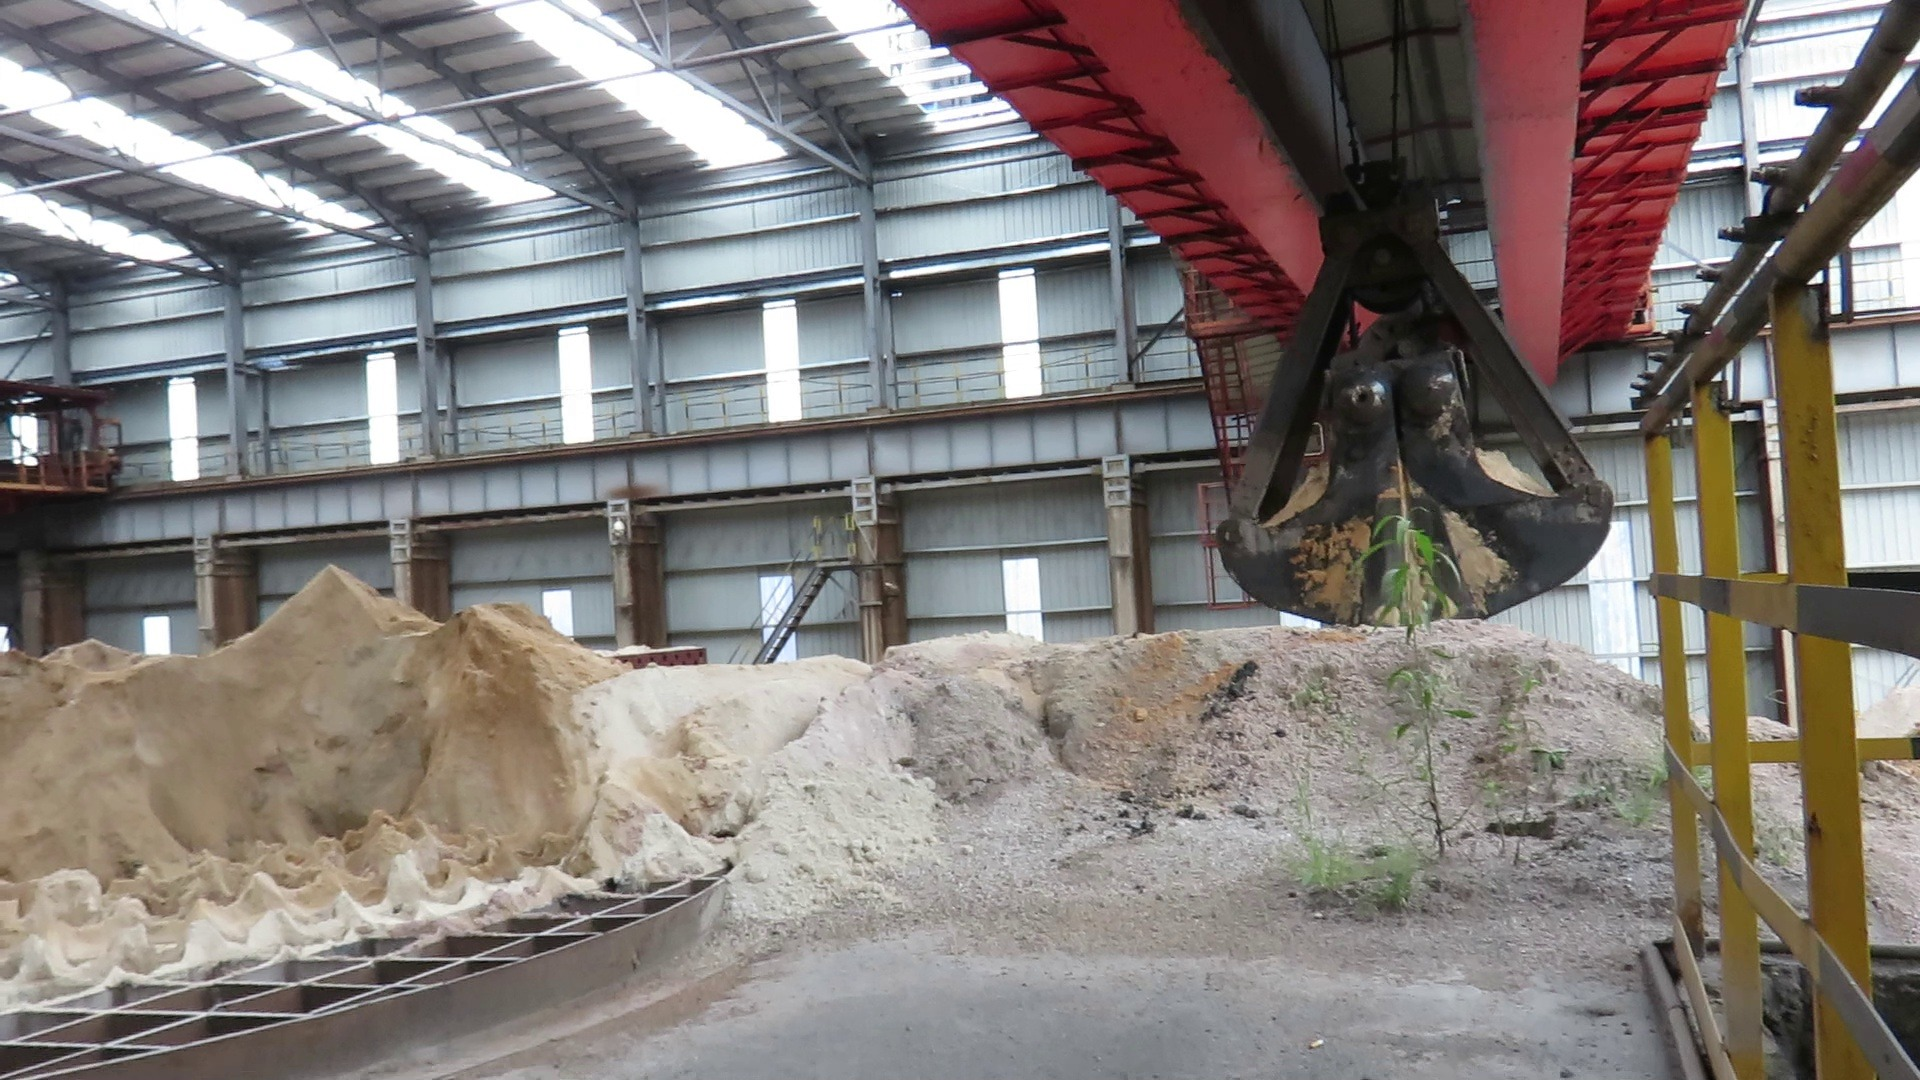grab: (1211, 131, 1619, 629)
